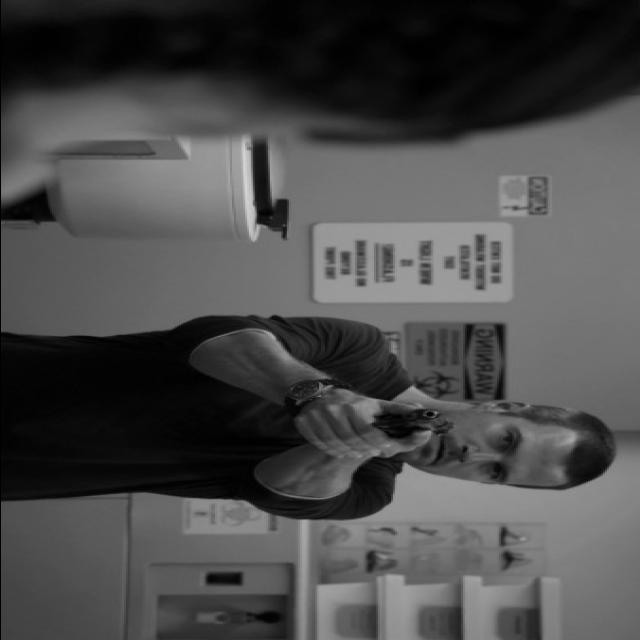weapons: (312, 396, 468, 446)
